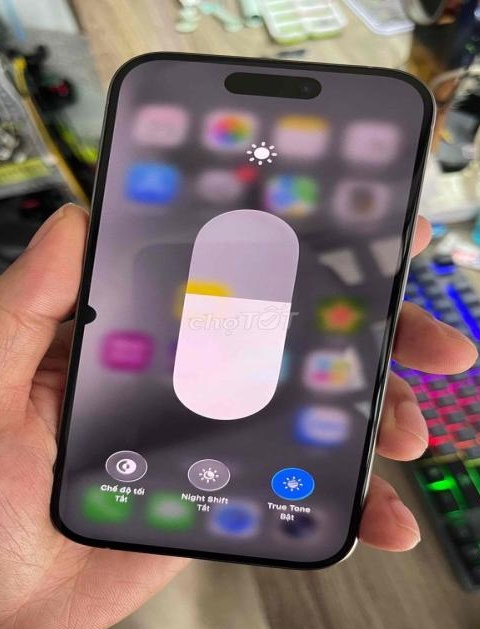screen_defect: (76, 302, 98, 329)
